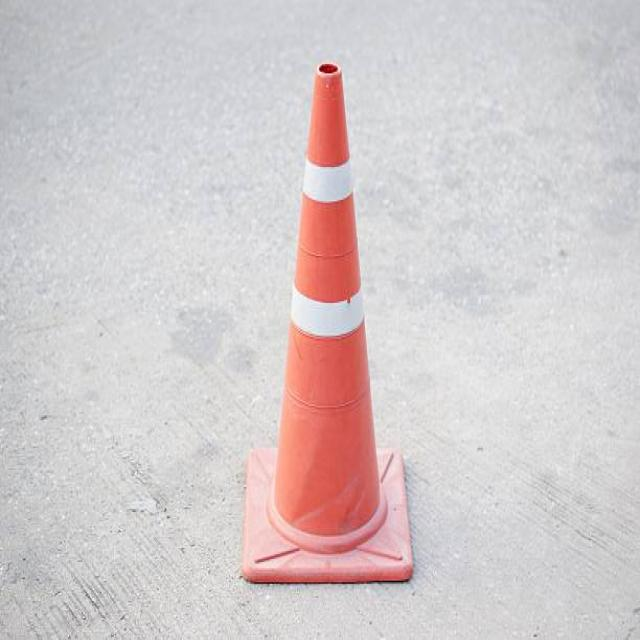Traffic Cone: (206, 29, 447, 640)
